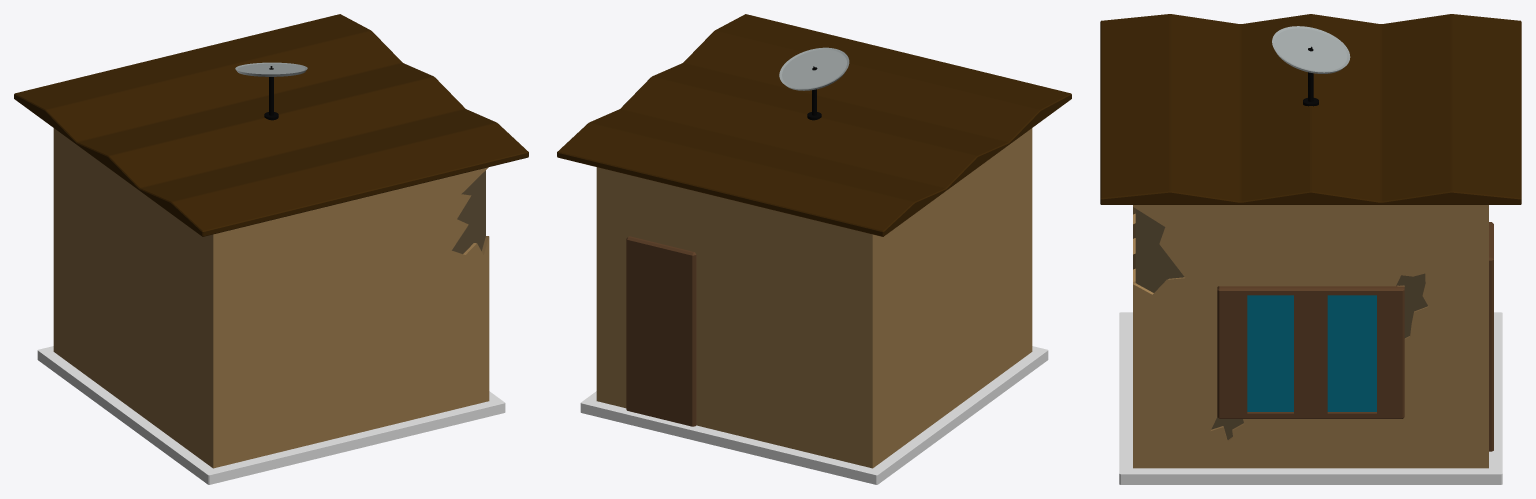
The model's file is Building #01.fbx.
3 views of the same model, side by side, from view 1: azimuth 30°, elevation 25°; view 2: azimuth 150°, elevation 25°; view 3: azimuth 270°, elevation 25° (orthographic). The views are drawn at different scales.
Visible parts, largest first — view 1: House, Roof, Floor, Crack.003, Metal; view 2: House, Roof, Door, Floor, Metal; view 3: Roof, House, Wooden, Floor, Window.002, Window.001, Metal, Crack.003, Door, Crack.001.
Boxes of the visible parts, <box> form: House: <box>53,128,489,468</box>; Roof: <box>14,14,528,236</box>; Floor: <box>37,346,505,484</box>; Crack.003: <box>452,170,485,253</box>; Metal: <box>235,62,307,76</box>; House: <box>596,128,1032,468</box>; Roof: <box>557,14,1071,236</box>; Door: <box>626,236,696,426</box>; Floor: <box>580,346,1048,484</box>; Metal: <box>779,47,849,90</box>; Roof: <box>1100,14,1521,204</box>; House: <box>1133,205,1488,468</box>; Wooden: <box>1217,285,1404,418</box>; Floor: <box>1119,312,1502,484</box>; Window.002: <box>1327,295,1376,411</box>; Window.001: <box>1247,295,1293,411</box>; Metal: <box>1272,26,1350,73</box>; Crack.003: <box>1135,209,1184,292</box>; Door: <box>1489,222,1493,451</box>; Crack.001: <box>1396,273,1427,338</box>.
Bounding box in the file's own units: 200 × 191 × 200.
